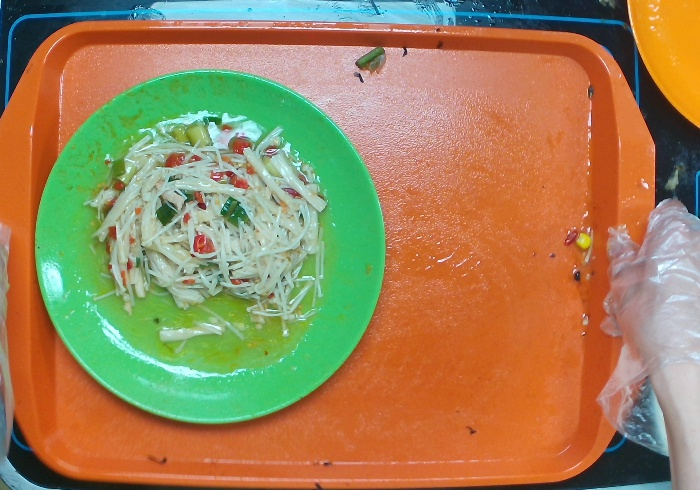HZYJPL-Lv_Se_Yuan_Pan: (33, 68, 387, 426)
